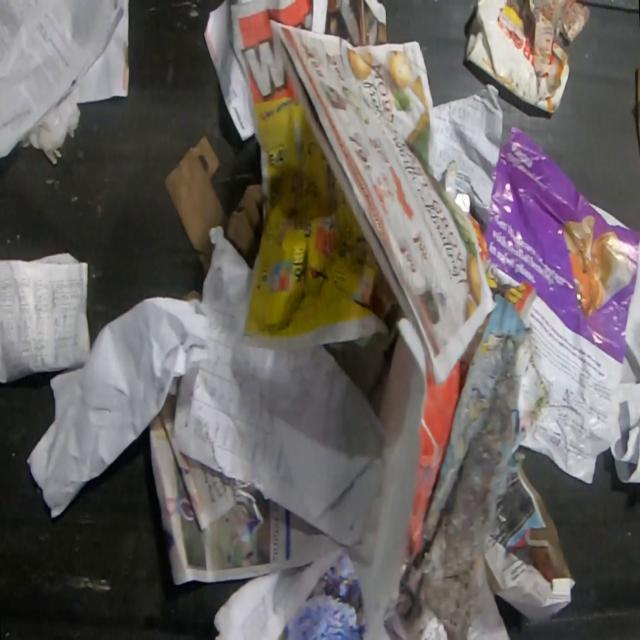cardboard: (166, 133, 262, 279), (462, 0, 570, 112)
